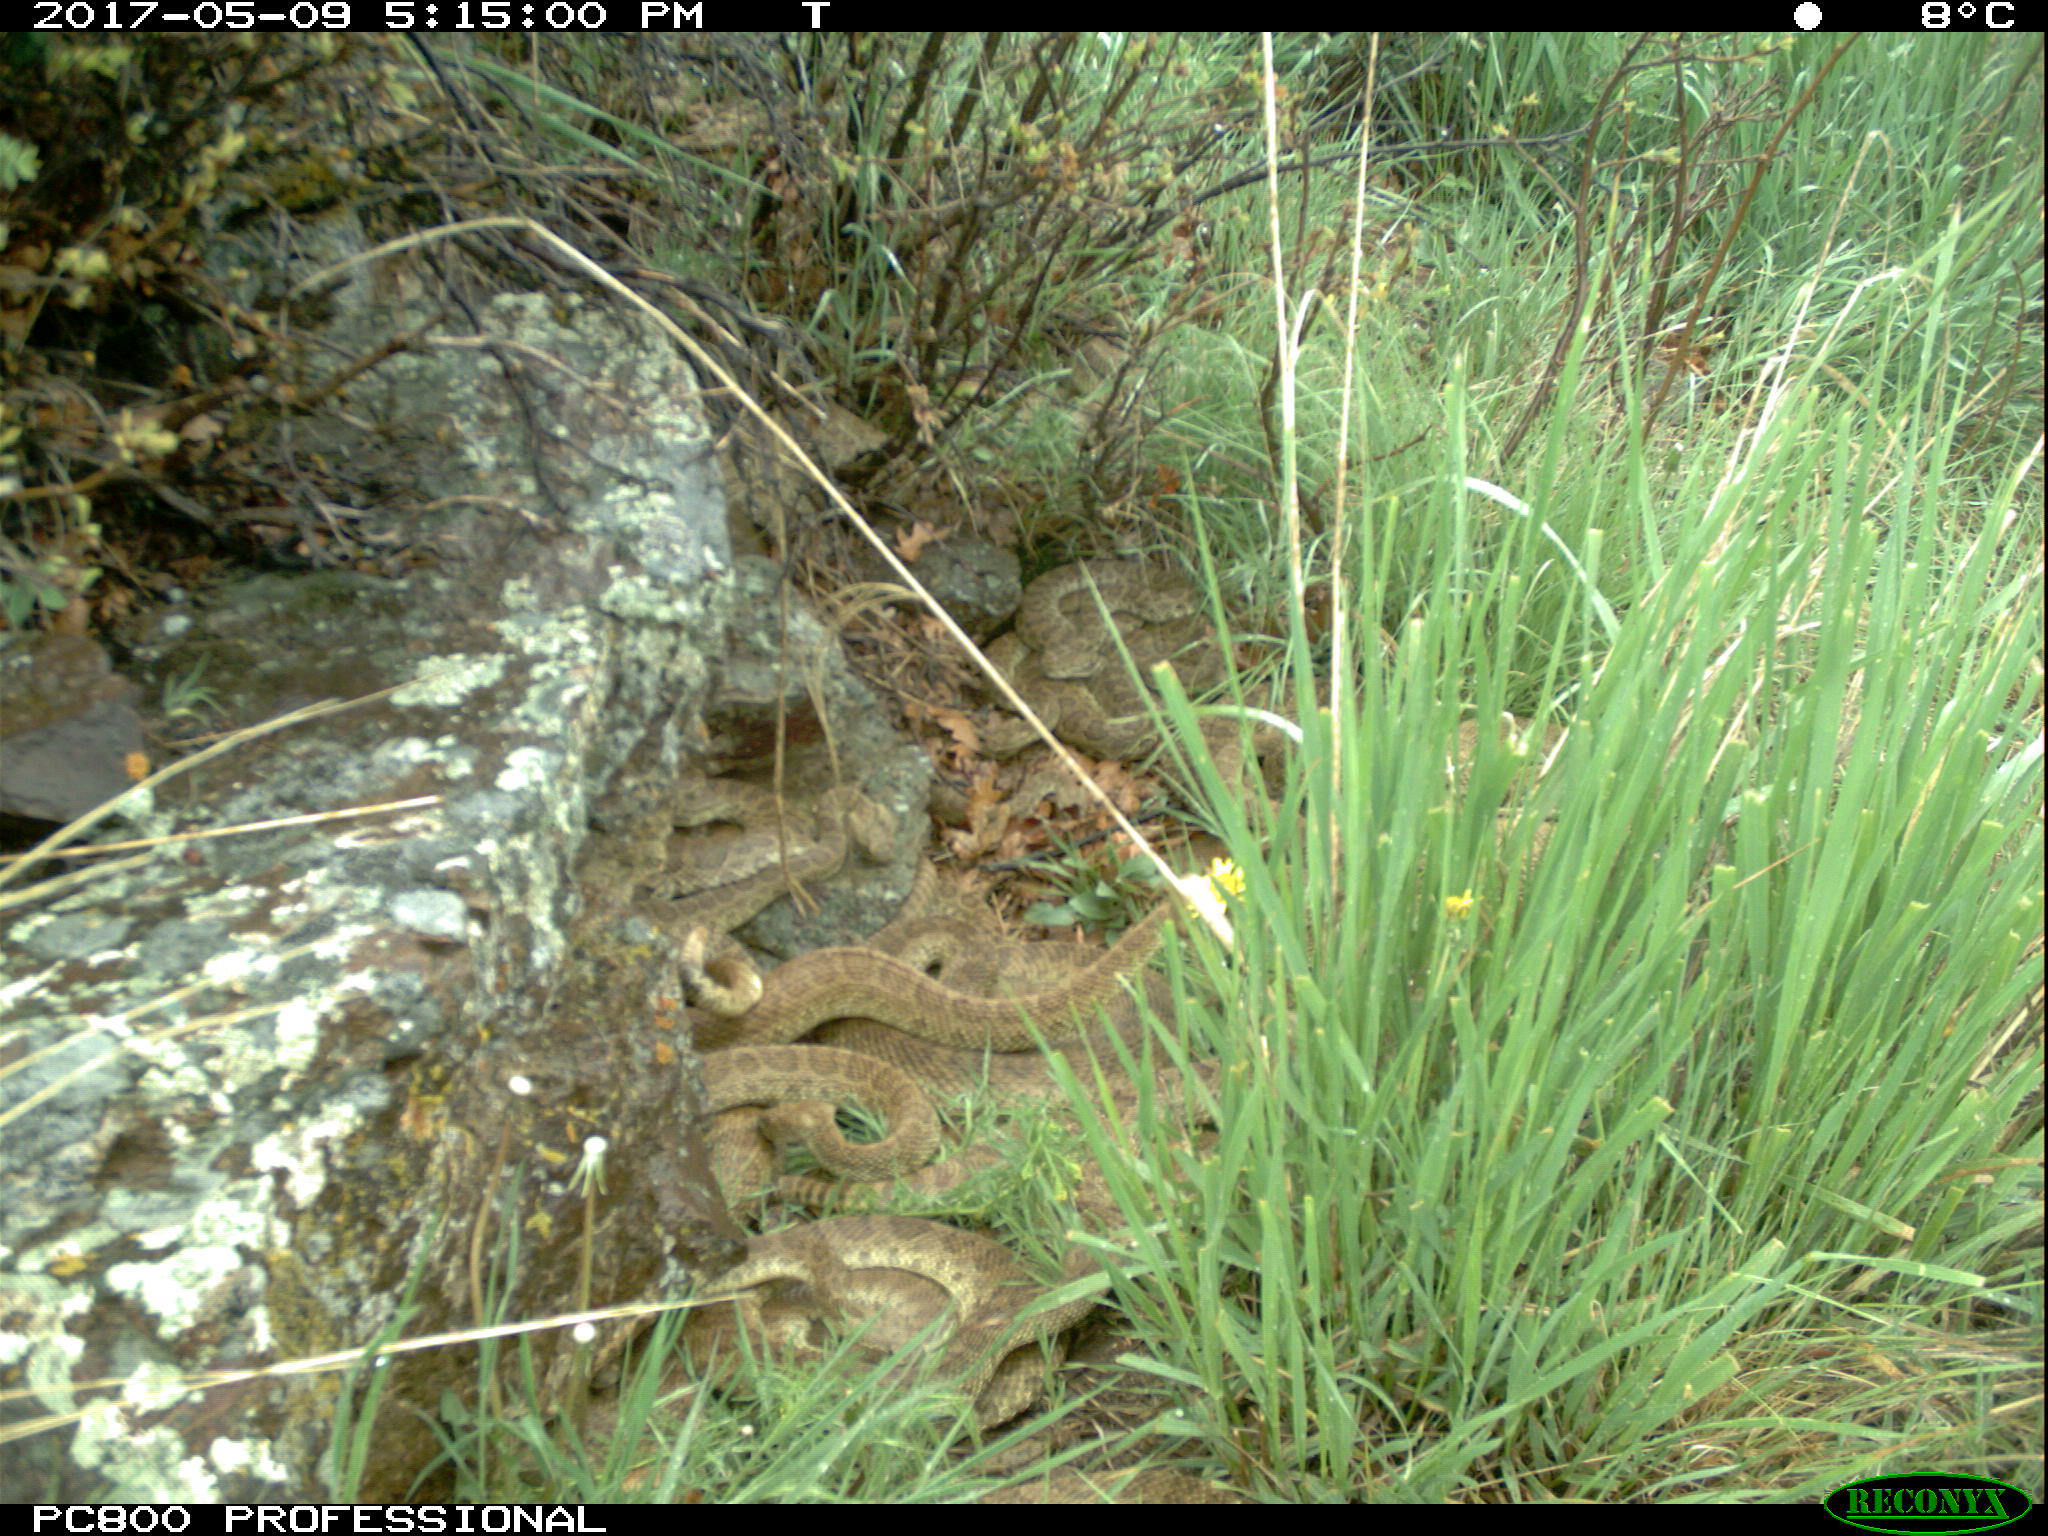snake: (681, 1218, 1077, 1430), (685, 895, 1200, 1052), (979, 558, 1243, 757), (690, 1041, 956, 1183), (660, 774, 916, 889)
